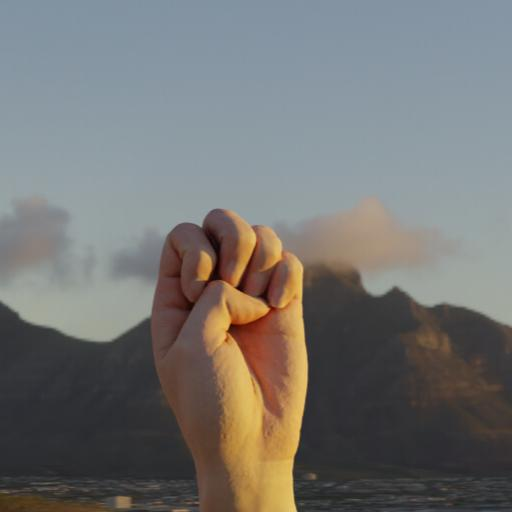E: (150, 204, 316, 472)
